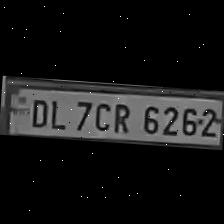2: (158, 102, 180, 134), (198, 104, 220, 136)
6: (136, 100, 160, 134), (177, 104, 200, 136)
7: (68, 95, 94, 131)
C: (90, 97, 113, 131)
D: (24, 94, 50, 128)
L: (47, 94, 70, 128)
R: (108, 98, 134, 134)
